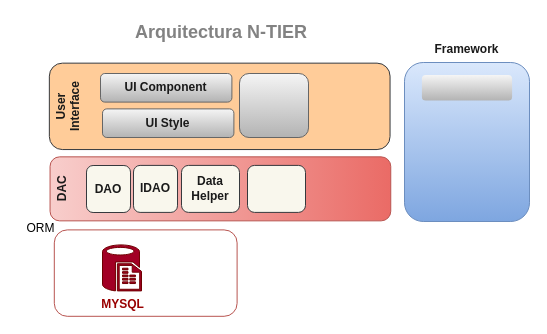
Some shapes in this 547 by 334 pixel diagram are drawn without their labels. The box of each missing label's shape, as (x1, y1, x2, y2) in pixels:
Controller UIC: (238, 72, 308, 138)
Data Sources: (53, 229, 237, 316)
DTO: (246, 164, 306, 212)
Exception: (421, 74, 512, 100)
